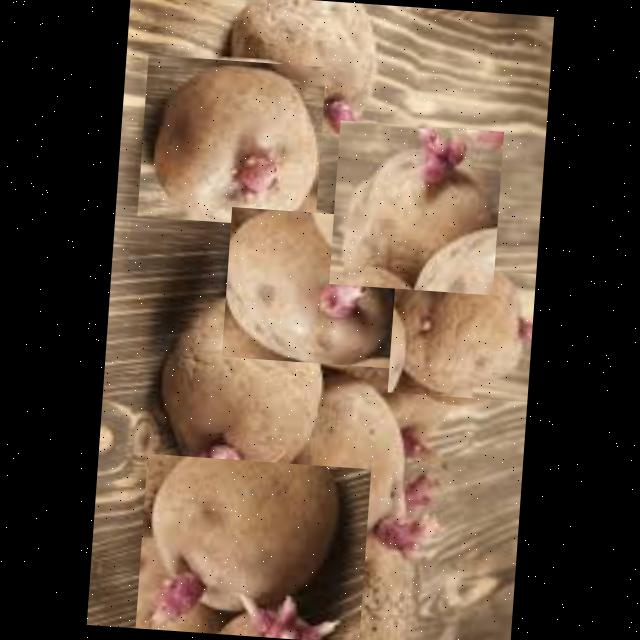Sprouted potato: (135, 452, 371, 640), (144, 283, 328, 507), (137, 54, 326, 228), (300, 364, 455, 575), (328, 119, 504, 294), (222, 205, 410, 368), (211, 0, 380, 137), (387, 264, 536, 401)
